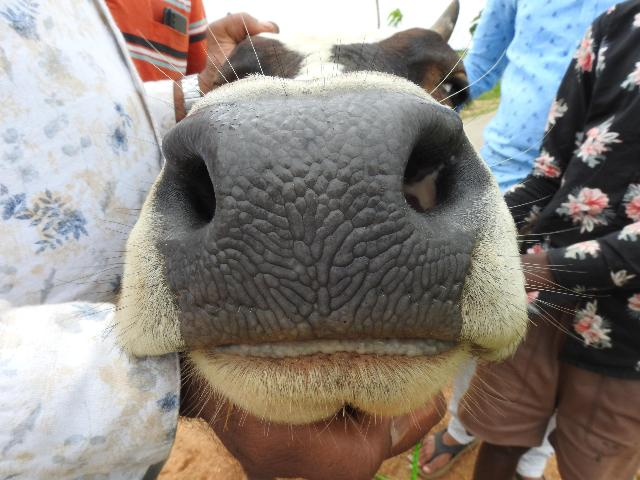Muzzle: (198, 110, 434, 328)
